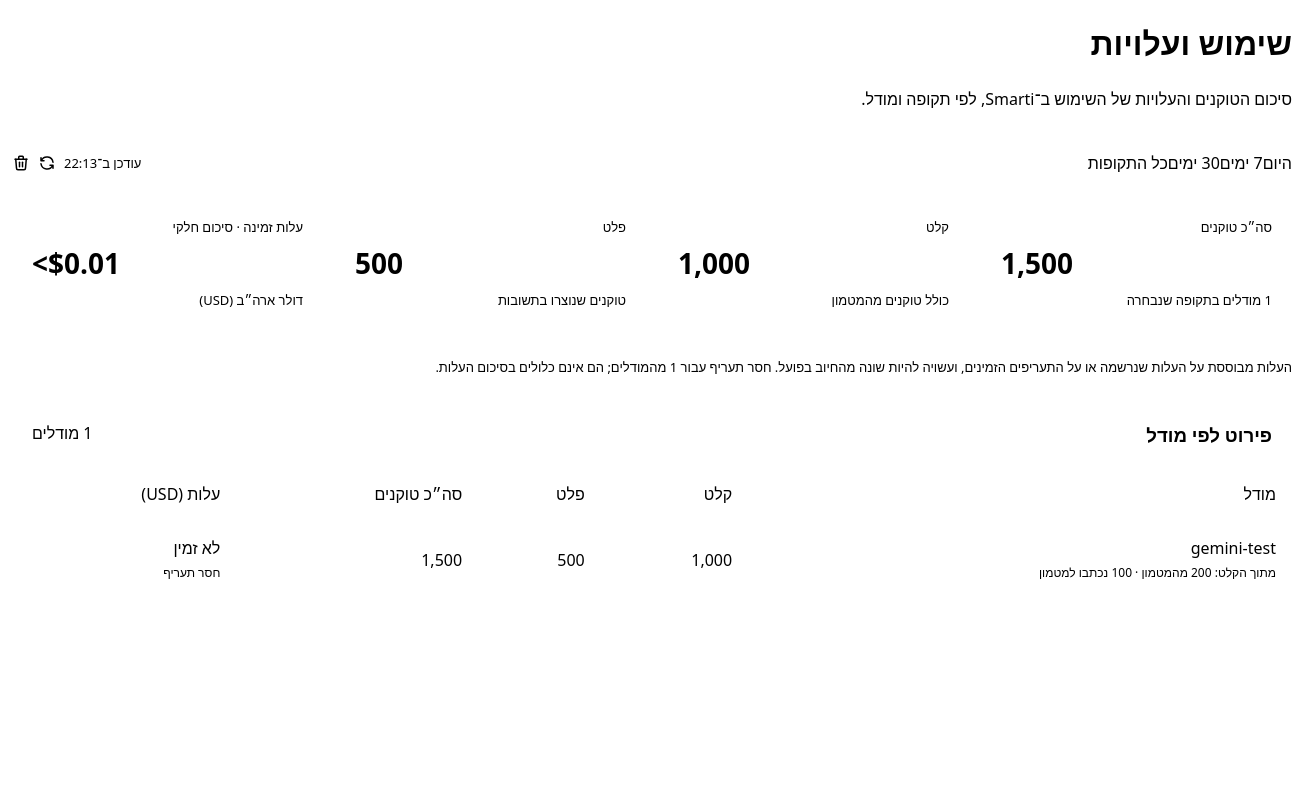
Scenario: usage loading through the desktop API › offers all history from an empty period and distinguishes missing pricing
Check: the text "חסר תעריף" is shown, box [163,564,220,581]
Check: the text "לא זמין" is shown, box [174,537,220,559]
Click the button "7 ימים" at (1241, 163), box [1220,152,1263,174]
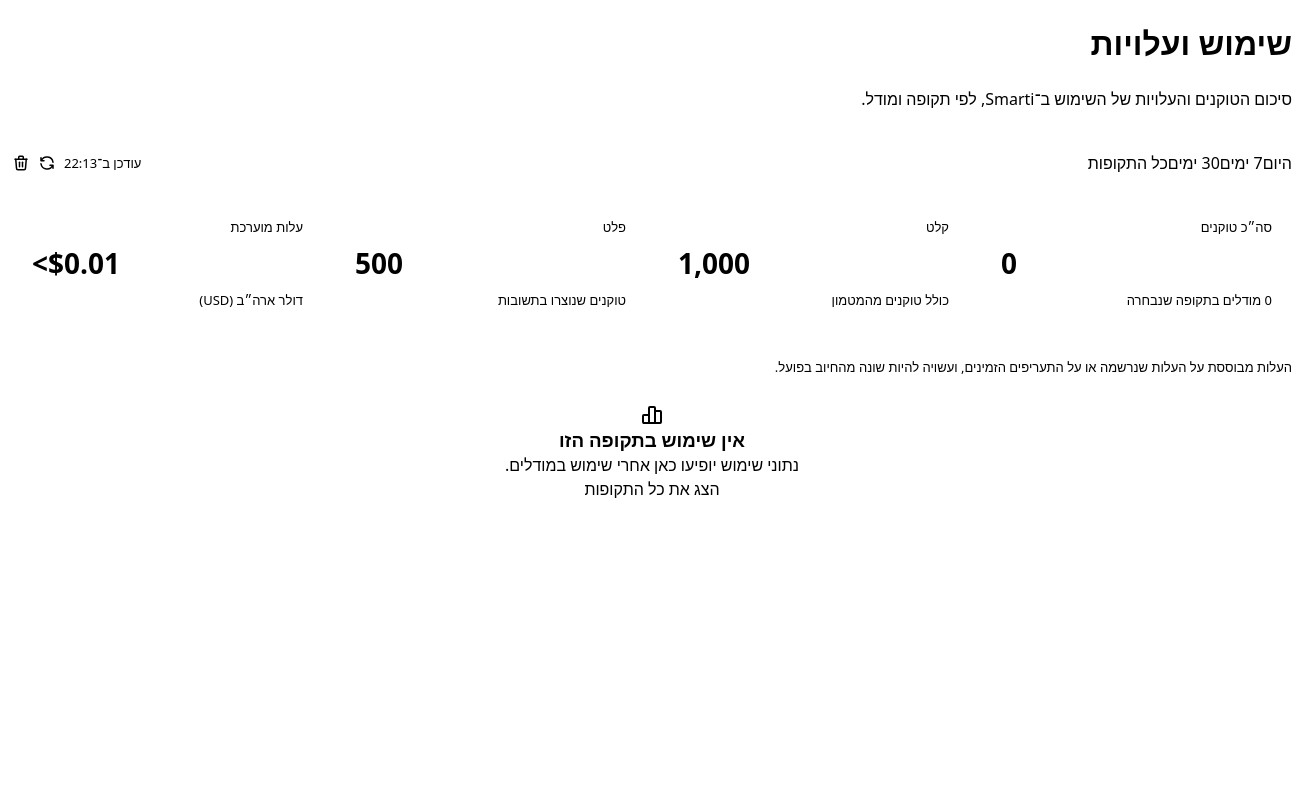
Check: the heading "אין שימוש בתקופה הזו" is shown, box [559,426,745,452]
Check: the button "הצג את כל התקופות" is shown, box [584,478,720,500]
